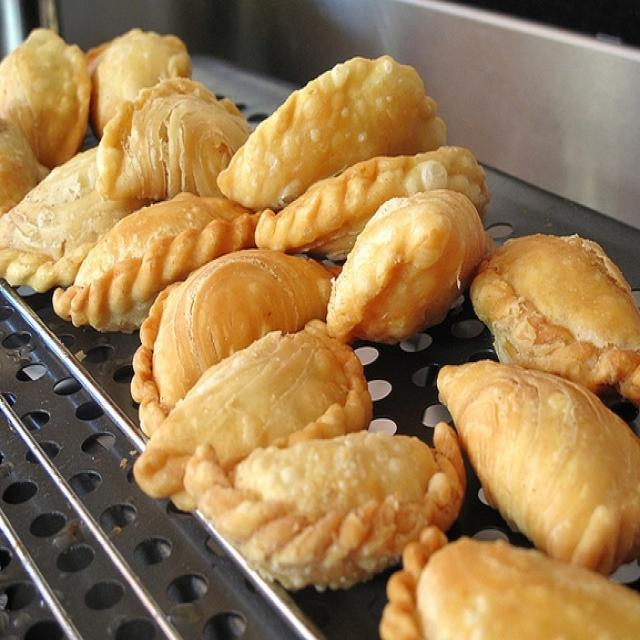炸货点心: (16, 21, 616, 604)
